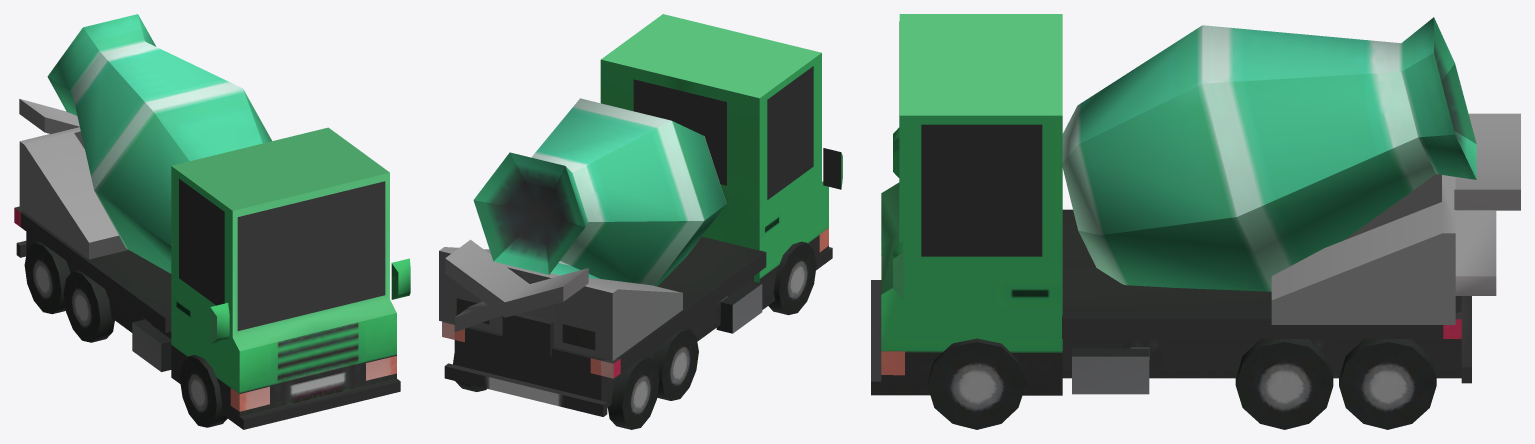
Rendered from Vehicle1.FBX.
3 views of the same model, side by side, from view 1: azimuth 30°, elevation 25°; view 2: azimuth 150°, elevation 25°; view 3: azimuth 270°, elevation 25° (orthographic). The views are drawn at different scales.
Parts seen in each view (by area): view 1: Vehicle1; view 2: Vehicle1; view 3: Vehicle1.
Boxes of the visible parts, left/top/right/bottom form: Vehicle1: left=14, top=14, right=410, bottom=429; Vehicle1: left=439, top=14, right=842, bottom=429; Vehicle1: left=871, top=14, right=1520, bottom=429.
Bounding box in the file's own units: 3.44 × 4.26 × 7.34.
